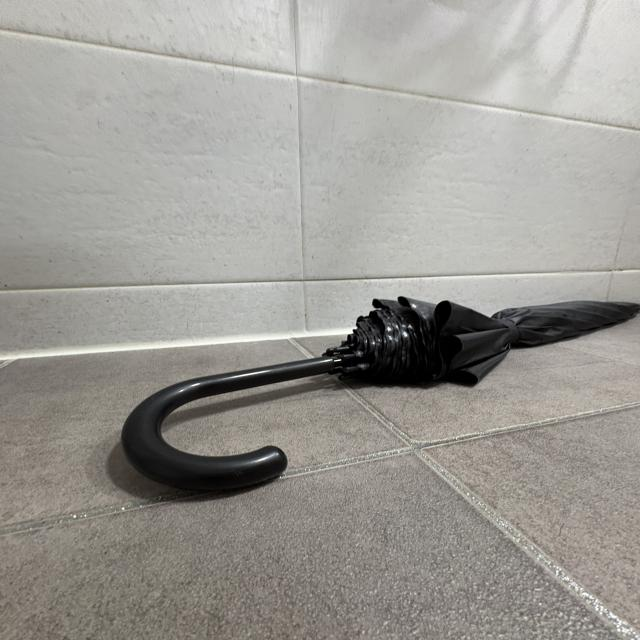umbrella: (123, 294, 640, 492)
